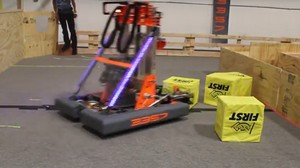cube: (214, 95, 265, 146)
